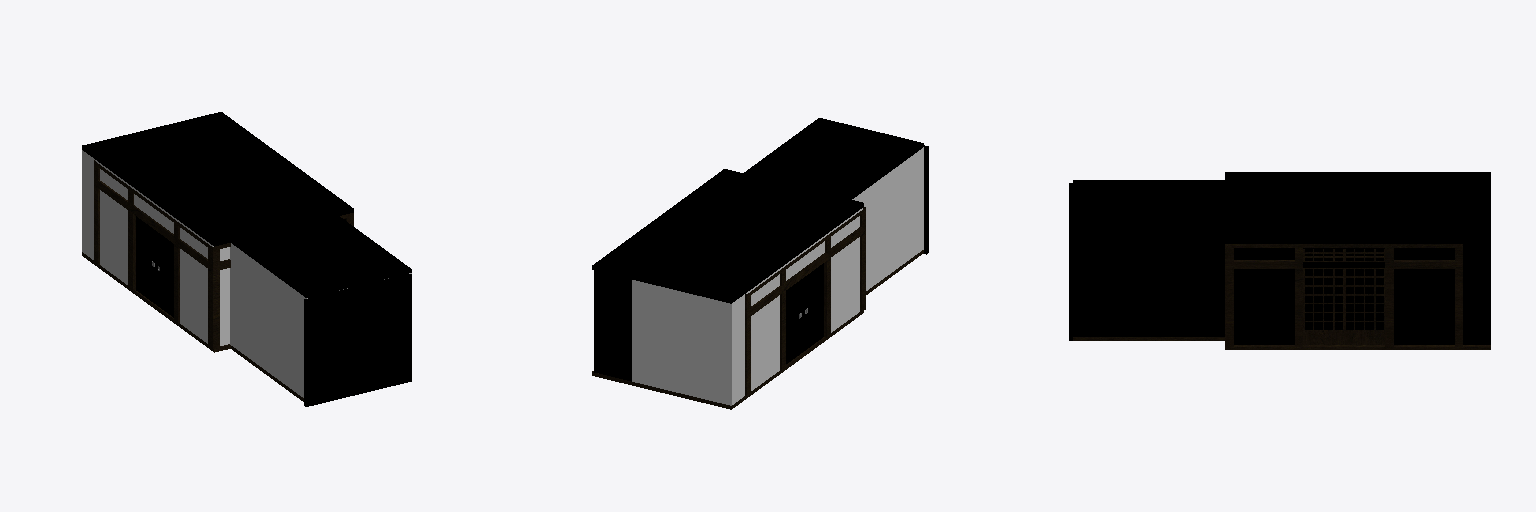
The picture shows the model from 3 angles: view 1: azimuth 30°, elevation 25°; view 2: azimuth 150°, elevation 25°; view 3: azimuth 270°, elevation 25°; orthographic projection.
Visible parts, largest first — view 1: TatamiSingleMesh; view 2: TatamiSingleMesh; view 3: TatamiSingleMesh.
Boxes of the visible parts, box(x1,y1,x2,y2) form: TatamiSingleMesh: box(82, 112, 411, 406); TatamiSingleMesh: box(592, 118, 928, 409); TatamiSingleMesh: box(1069, 172, 1490, 349).
Bounding box in the file's own units: 38.35 × 31.42 × 98.86.
Materials: 19 (8 with a texture image).